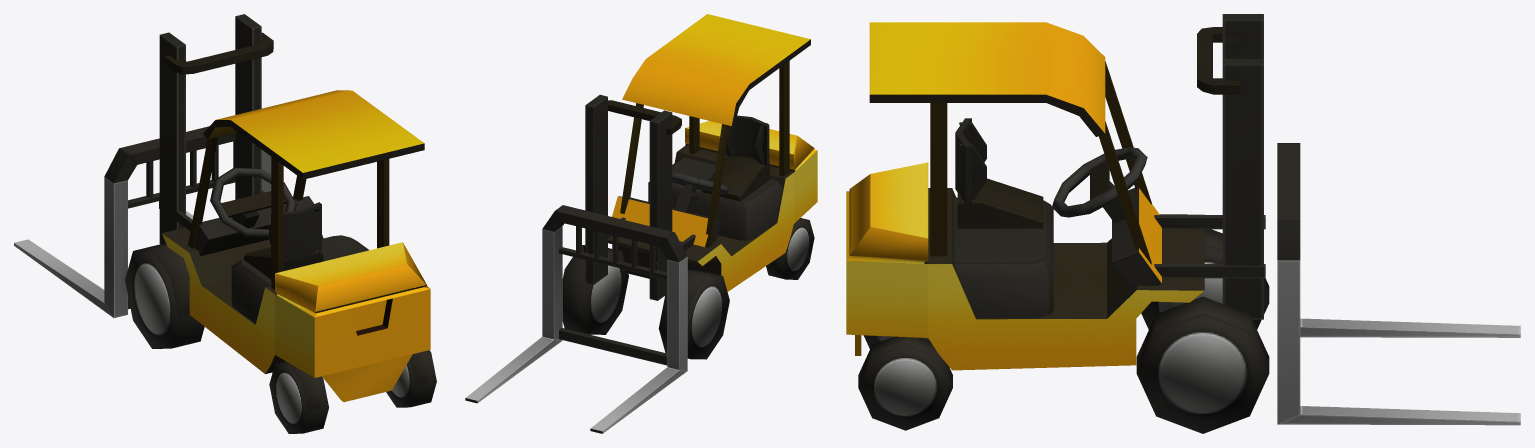
Rendered from Forklift.fbx.
3 views of the same model, side by side, from view 1: azimuth 30°, elevation 25°; view 2: azimuth 150°, elevation 25°; view 3: azimuth 270°, elevation 25° (orthographic). The views are drawn at different scales.
Parts seen in each view (by area): view 1: Forklift, Pangga, wheel3, wheel4, Control, wheel2; view 2: Forklift, Pangga, wheel1, wheel3, wheel4, Control; view 3: Forklift, Pangga, wheel1, wheel2, Control, wheel3.
Part boxes in pixels (left/top/right/bottom): Forklift: left=159, top=14, right=430, bottom=401; Pangga: left=14, top=126, right=271, bottom=317; wheel3: left=125, top=243, right=204, bottom=348; wheel4: left=269, top=361, right=328, bottom=433; Control: left=210, top=167, right=296, bottom=237; wheel2: left=386, top=350, right=436, bottom=407; Forklift: left=583, top=14, right=817, bottom=300; Pangga: left=465, top=205, right=687, bottom=433; wheel1: left=562, top=245, right=628, bottom=334; wheel3: left=658, top=269, right=729, bottom=359; wheel4: left=766, top=218, right=814, bottom=279; Control: left=672, top=171, right=729, bottom=194; Forklift: left=846, top=14, right=1265, bottom=370; Pangga: left=1277, top=143, right=1520, bottom=425; wheel1: left=1136, top=296, right=1269, bottom=433; wheel2: left=858, top=336, right=952, bottom=430; Control: left=1052, top=147, right=1147, bottom=217; wheel3: left=1141, top=229, right=1269, bottom=329.
Size of the model in its own units: 3.73 by 6.38 by 11.1.
Materials: 1 (1 with a texture image).
